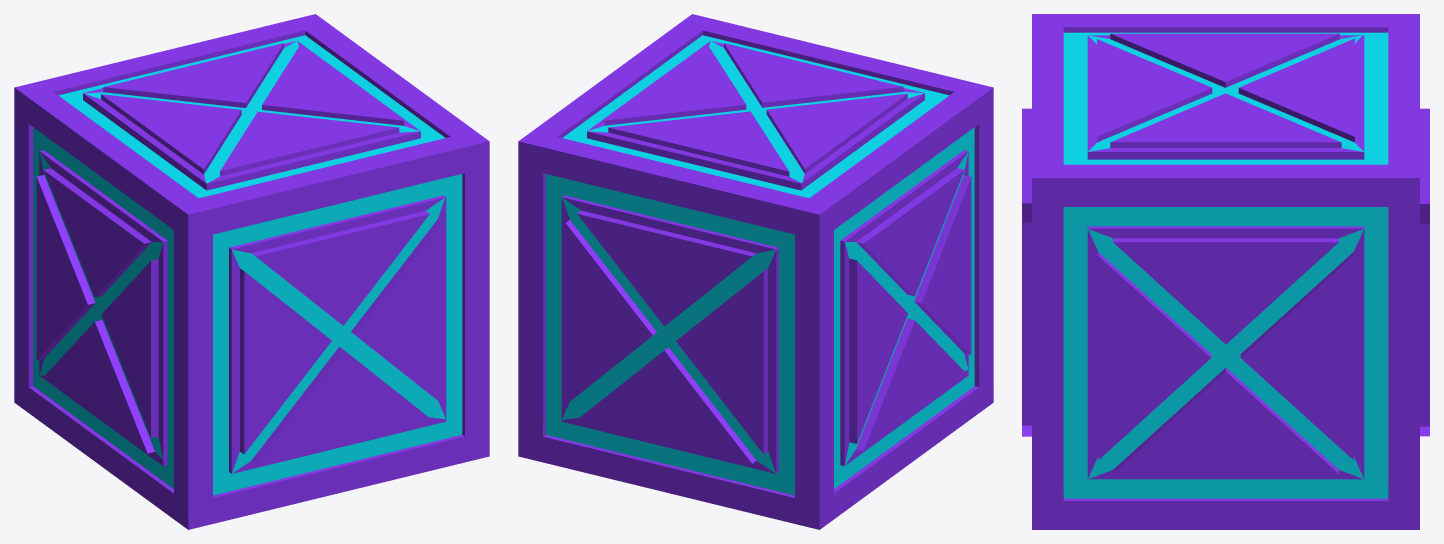
Rendered from POL0210025.fbx.
3 renders of one model, left to right at view 1: azimuth 30°, elevation 25°; view 2: azimuth 150°, elevation 25°; view 3: azimuth 270°, elevation 25°, orthographic. The views are drawn at different scales.
Visible parts, largest first — view 1: smPOL0210025; view 2: smPOL0210025; view 3: smPOL0210025.
Part boxes in pixels (x1,y1,x2,y2): smPOL0210025: [14, 14, 489, 529]; smPOL0210025: [518, 14, 993, 529]; smPOL0210025: [1022, 14, 1429, 529].
Bounding box in the file's own units: 169 × 165 × 169.
1 material, 1 textured.
